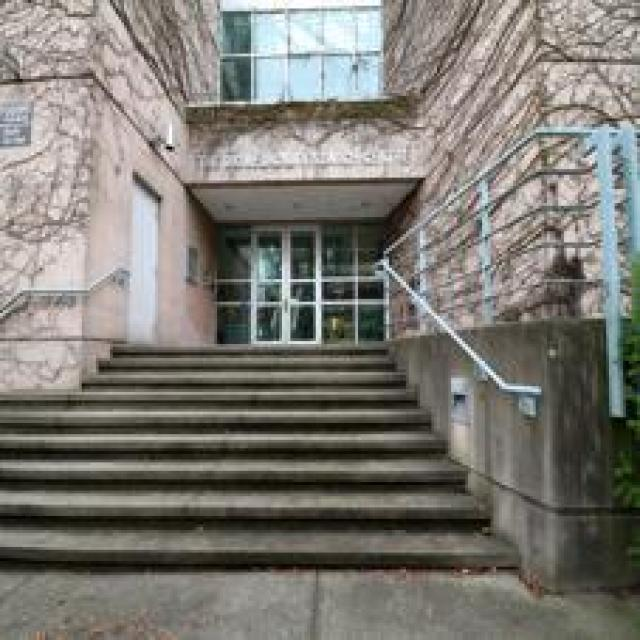upstair: (60, 424, 461, 610)
